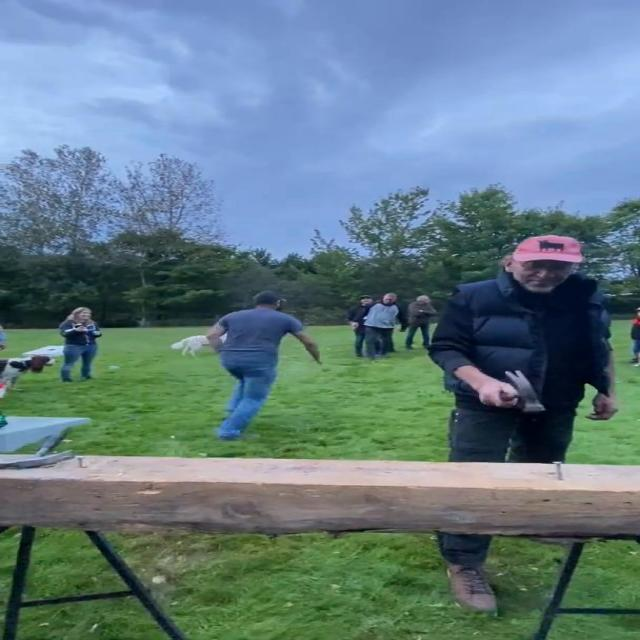hammer: (0, 429, 75, 469), (498, 370, 546, 413)
